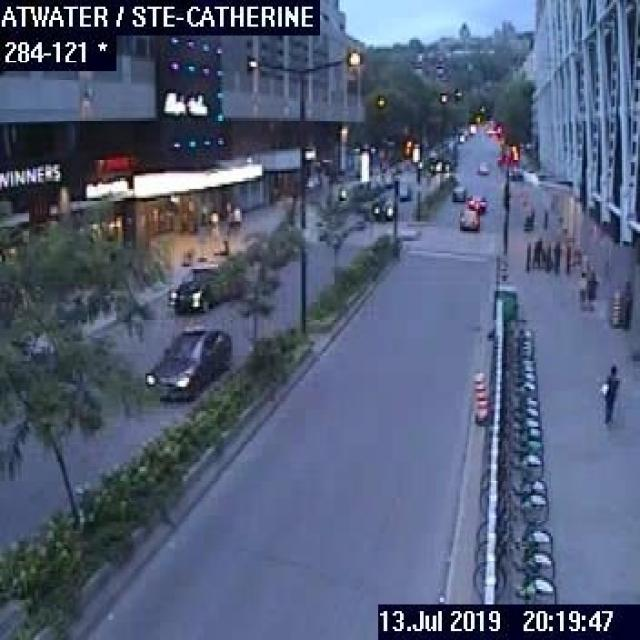construction: (471, 369, 491, 424), (609, 290, 620, 326)
pedestrian: (598, 362, 618, 422), (620, 279, 630, 328), (586, 268, 597, 311), (576, 267, 586, 311), (551, 236, 562, 276), (533, 233, 542, 267)
vehicle: (144, 322, 232, 400), (165, 260, 222, 313), (372, 193, 393, 218), (457, 208, 478, 228), (466, 192, 485, 211), (450, 184, 465, 200), (475, 160, 489, 173)
